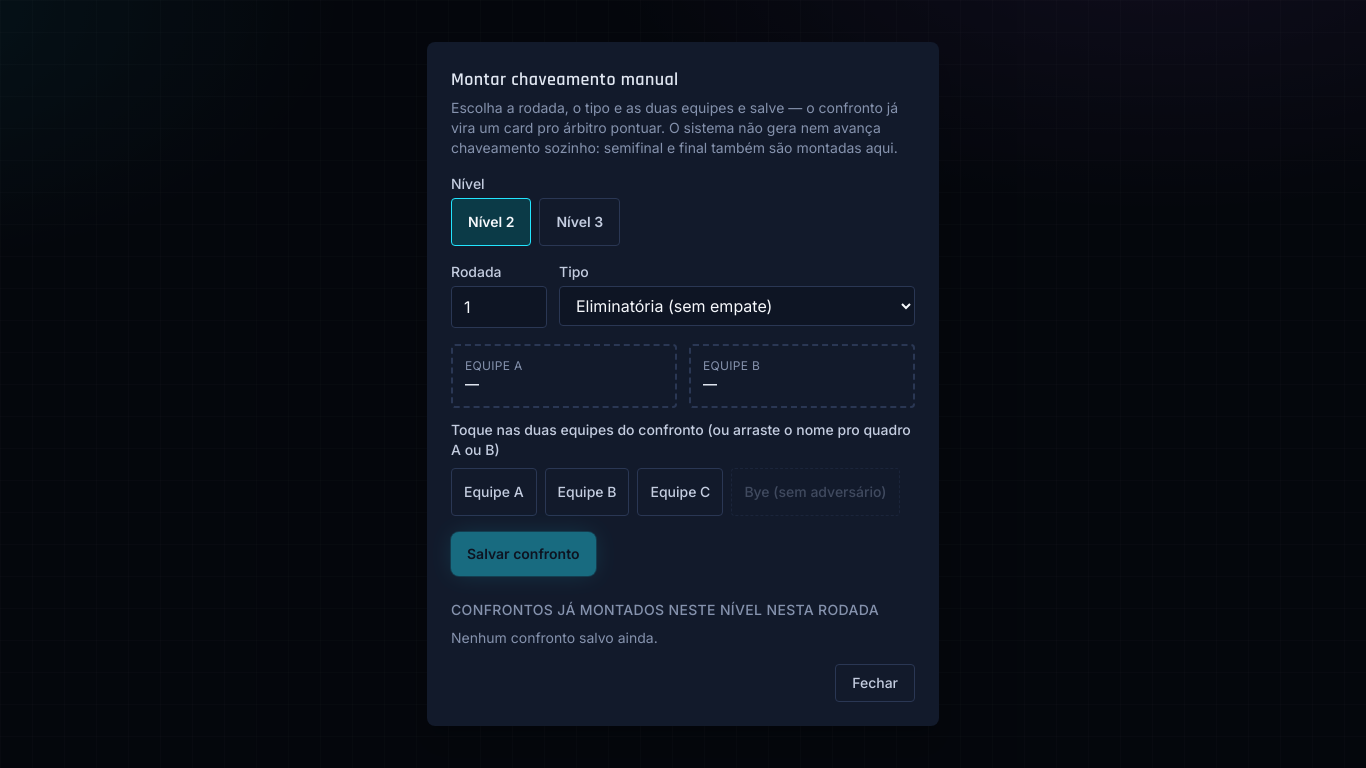
it: ChaveamentoManualBuilder › tocar de novo numa equipe escolhida desmarca
Click the button "Equipe A" at (494, 492), box [451, 468, 537, 516]
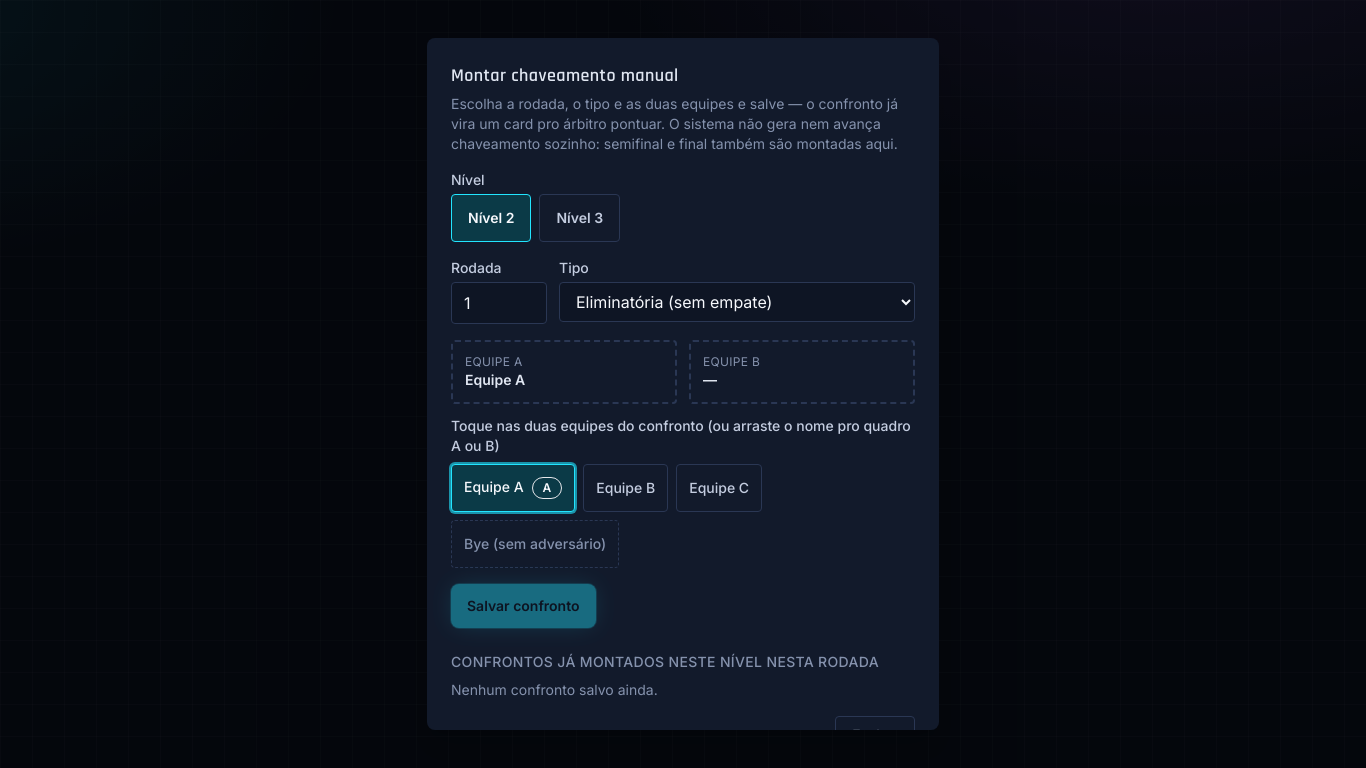
Click the button "Equipe B" at (626, 488), box [583, 464, 668, 512]
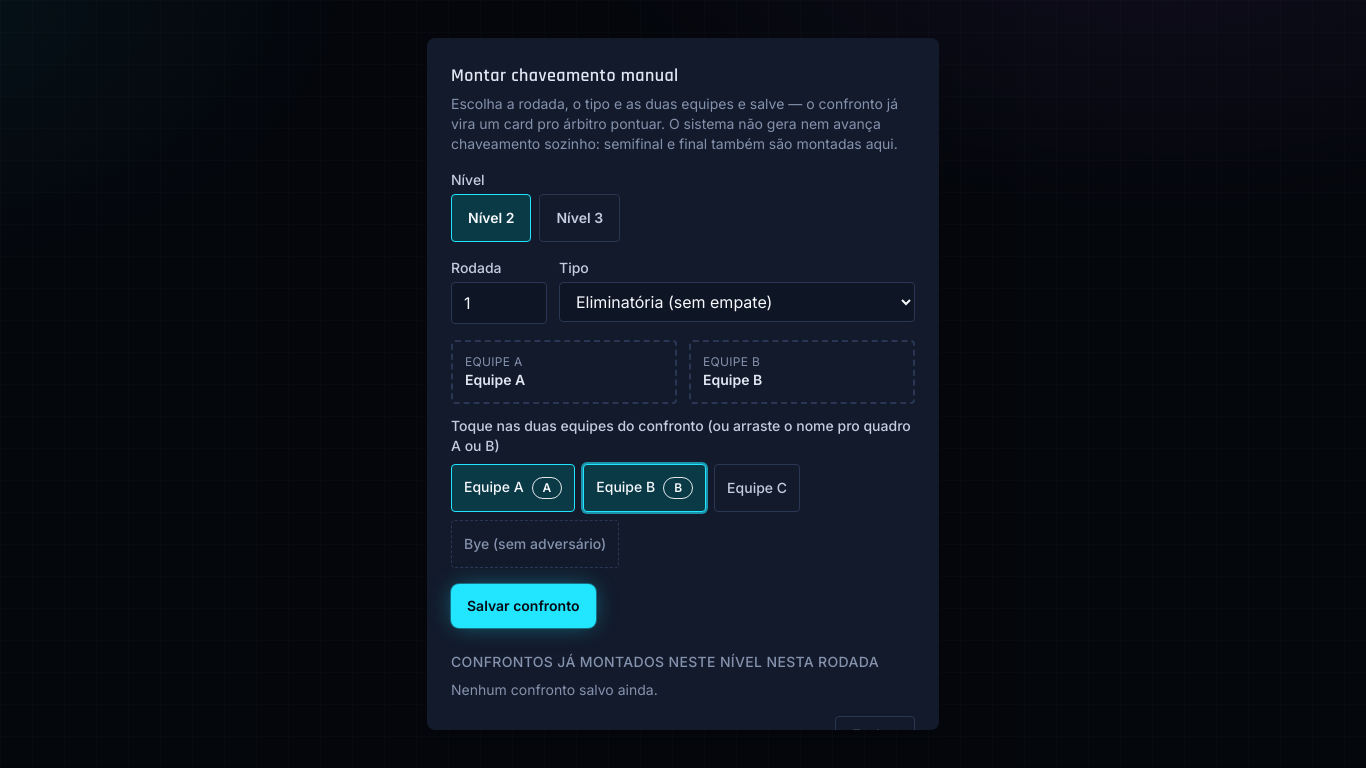
Click the button "Equipe A A" at (513, 488), box [451, 464, 575, 512]
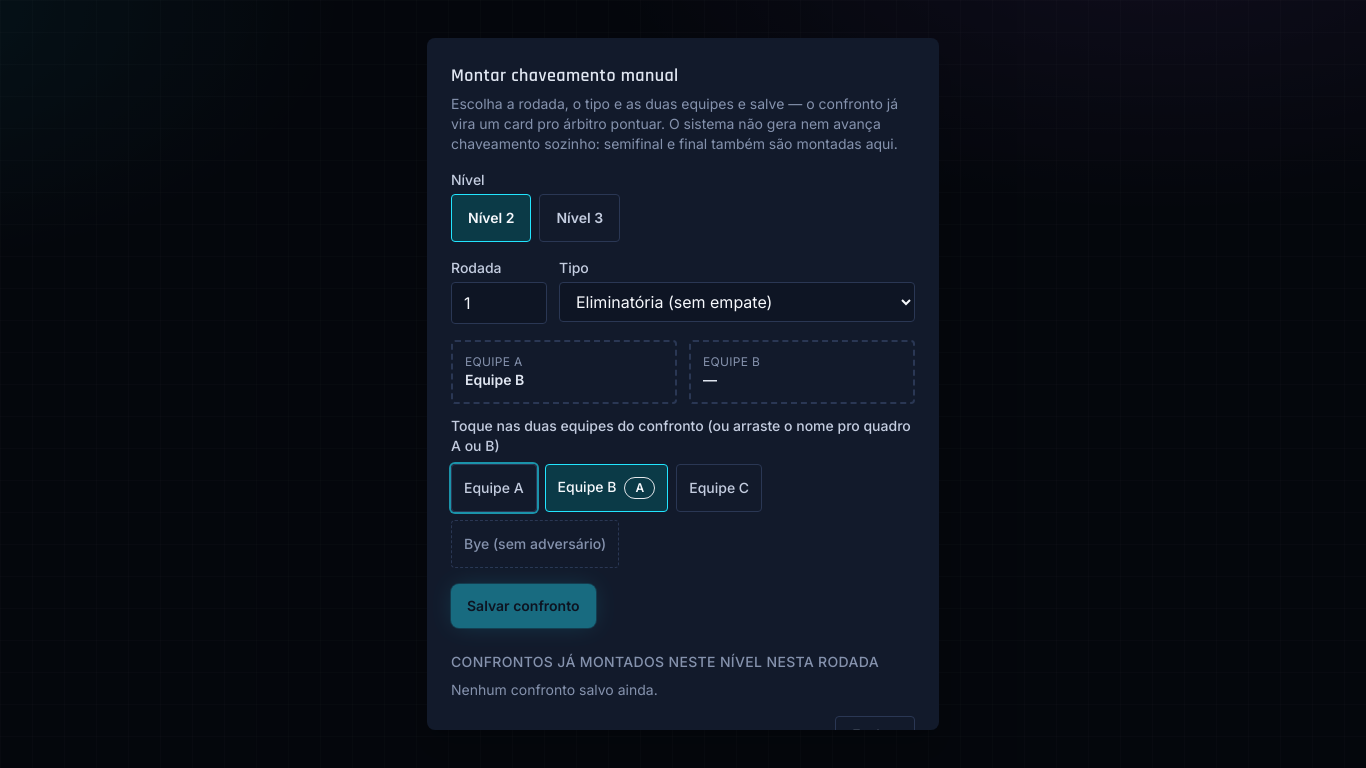
Expected: the text with test id "lado-a" does not show "Equipe A", [465, 371, 524, 388]
Expected: the button "Salvar confronto" is disabled, [451, 584, 596, 628]
